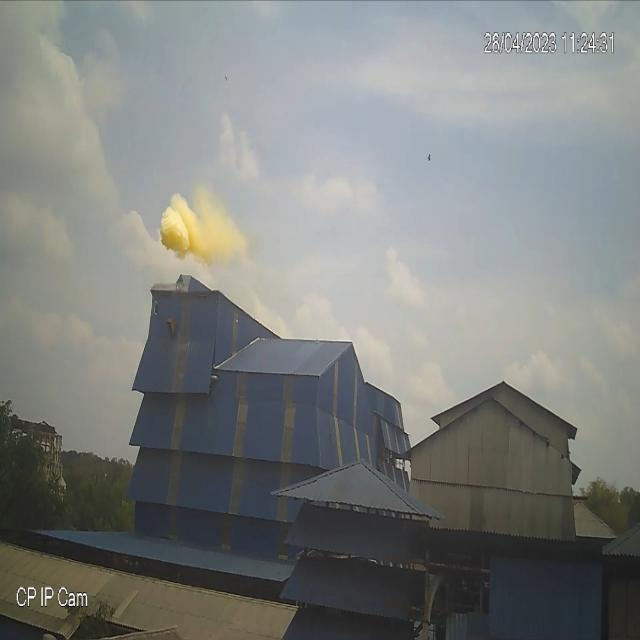yellow smoke: (158, 182, 248, 268), (158, 204, 189, 258)
